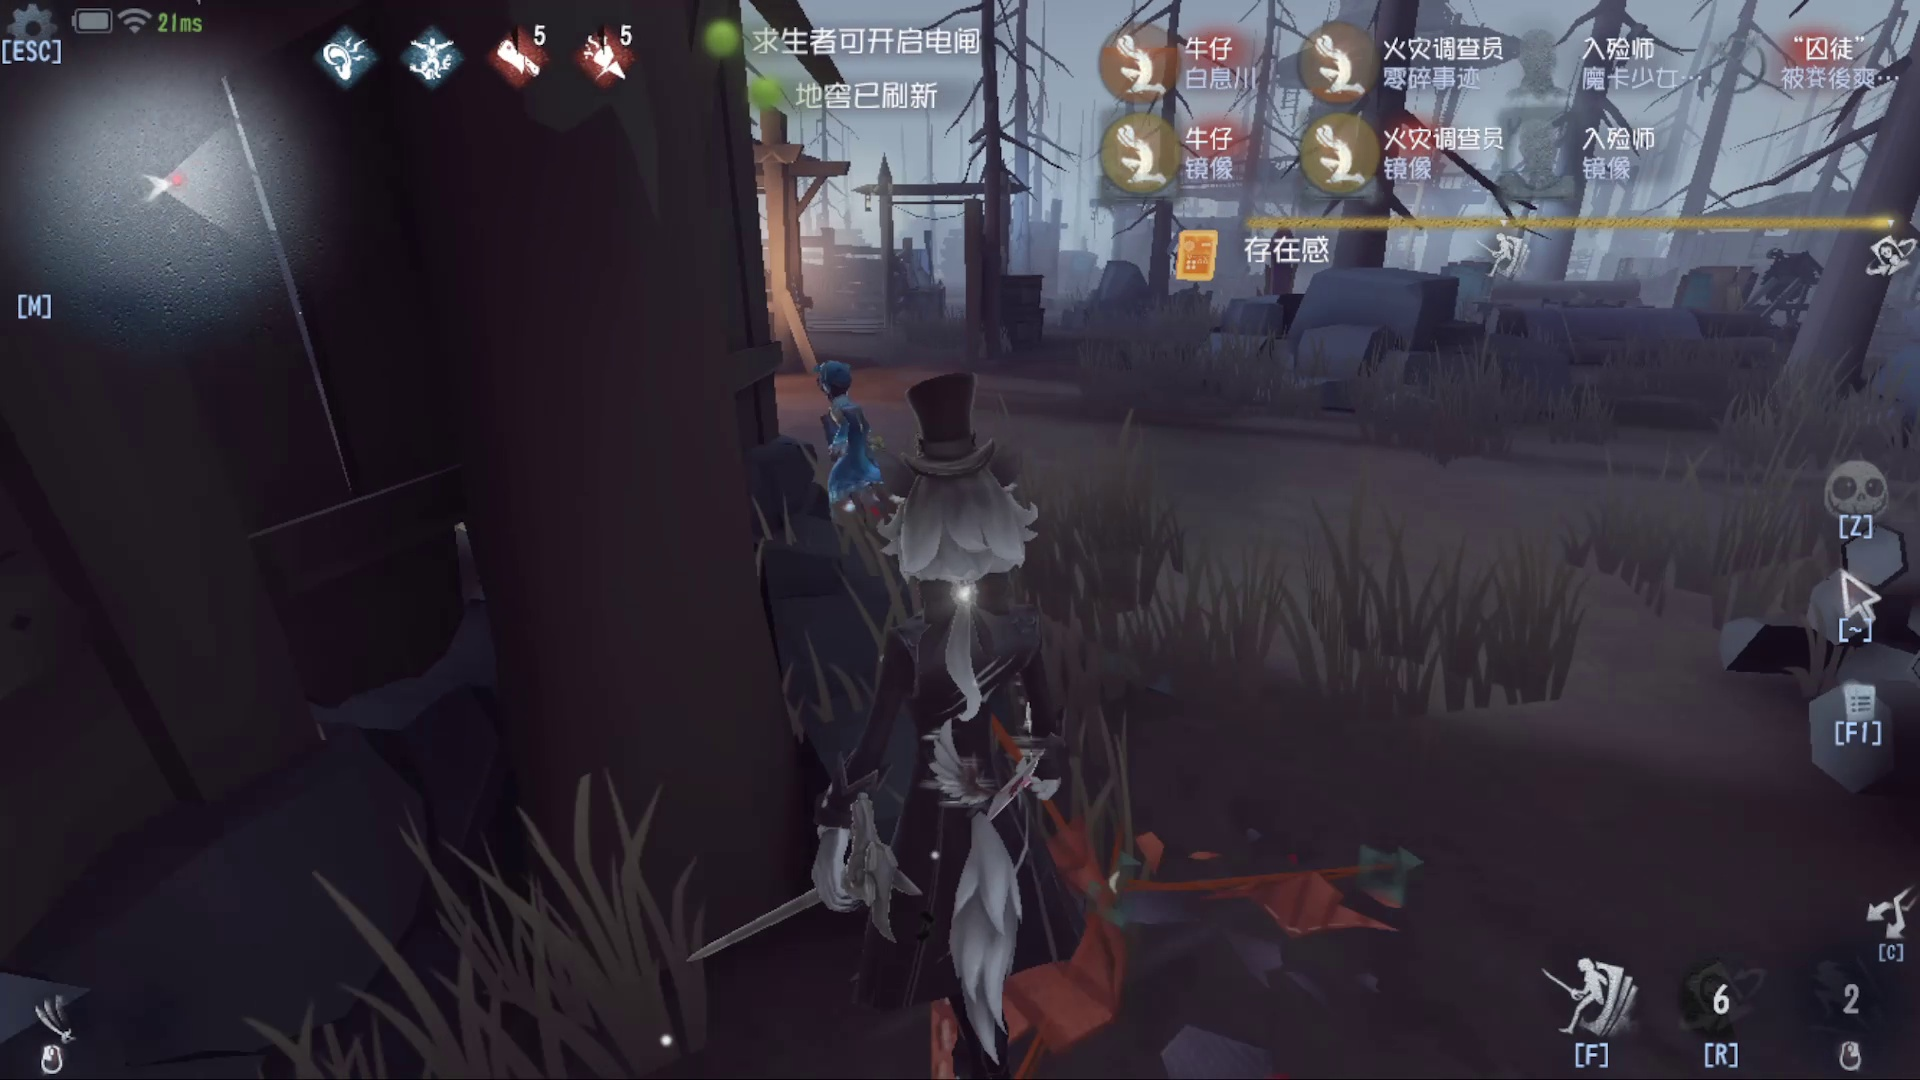木板: (1669, 243, 1754, 335), (1432, 240, 1514, 326)
求生者: (785, 347, 890, 496)
